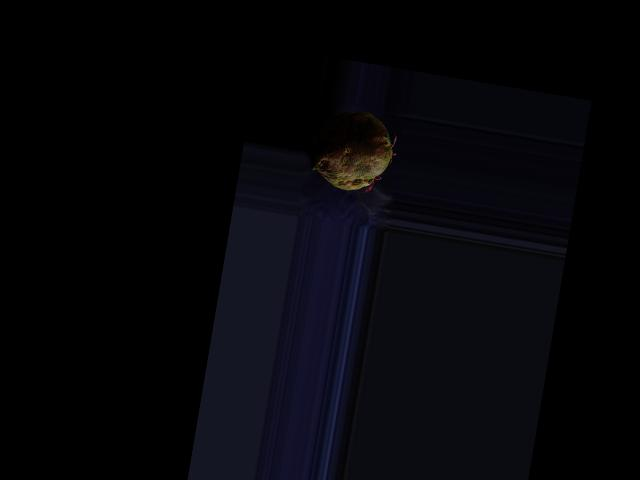beet: (304, 104, 401, 197)
